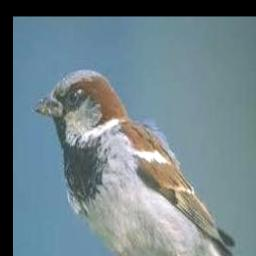Sparrow: (32, 69, 256, 256)
